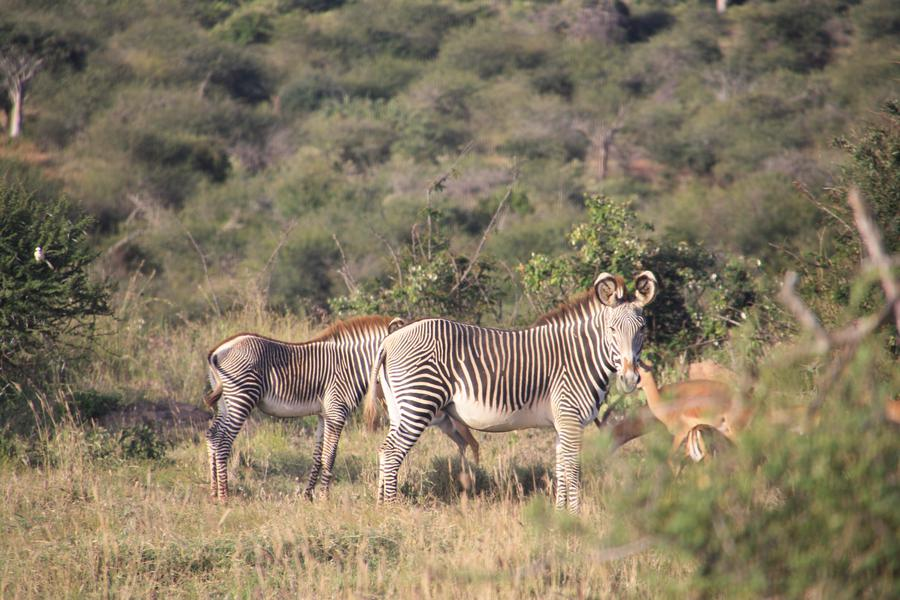zebra_grevys: (390, 319, 594, 418), (208, 340, 358, 412)
